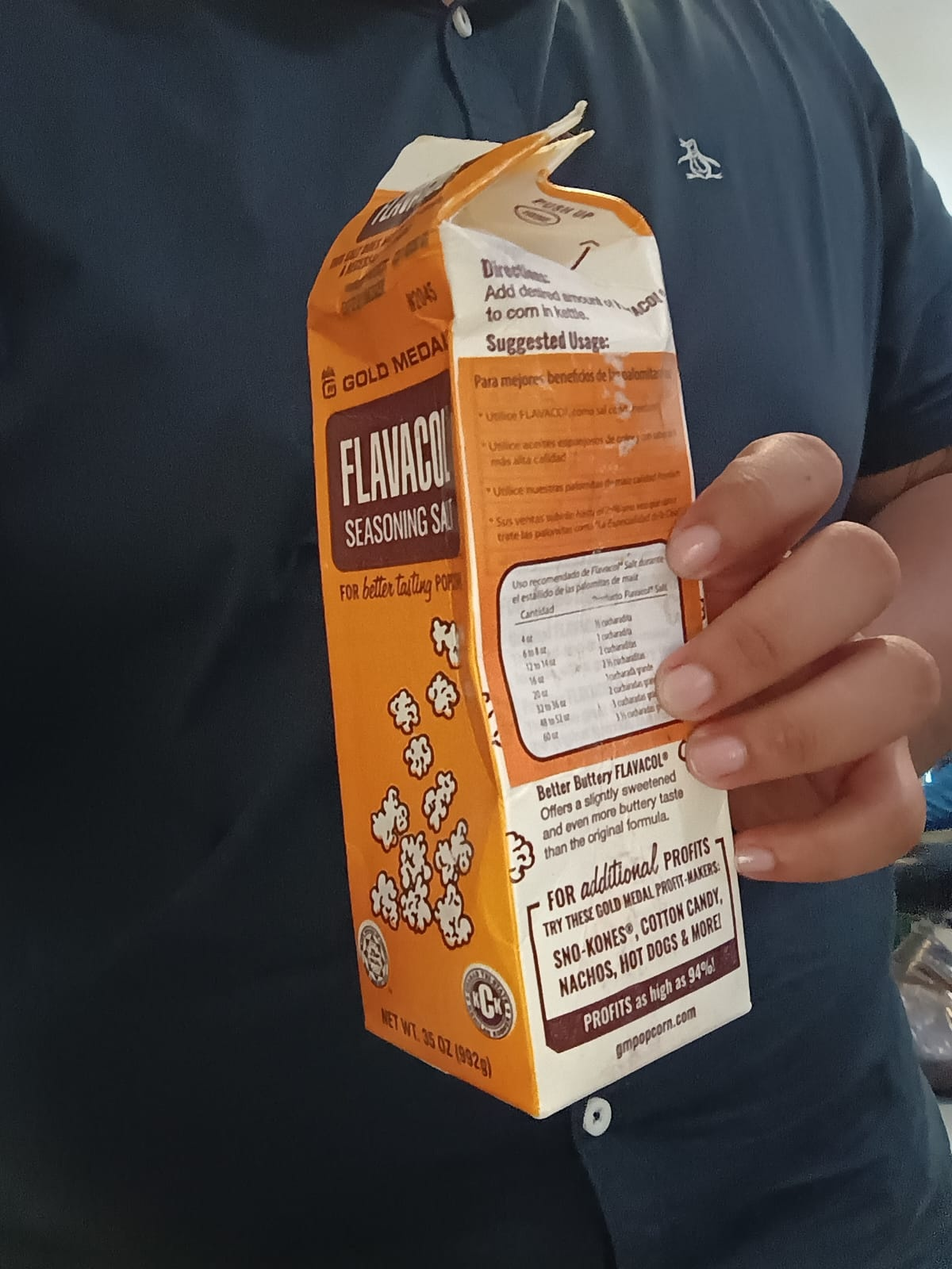Carton: (308, 101, 754, 1115)
